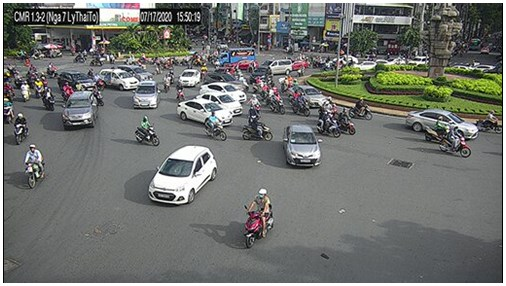xe_hoi: (149, 146, 218, 206), (406, 109, 479, 141), (283, 124, 321, 171), (176, 99, 232, 128), (63, 91, 97, 129), (196, 92, 242, 117), (200, 81, 246, 104), (100, 68, 140, 90), (205, 73, 248, 92), (59, 71, 97, 92), (134, 81, 162, 108), (118, 62, 152, 81), (260, 60, 293, 75), (178, 68, 200, 85), (227, 59, 258, 70), (251, 67, 272, 81), (332, 54, 358, 65), (408, 56, 431, 64), (354, 61, 376, 69)
xe_may: (243, 188, 274, 249), (23, 143, 48, 188), (440, 126, 472, 158), (242, 115, 273, 142), (318, 105, 341, 139), (135, 116, 159, 147), (204, 112, 227, 142), (427, 117, 452, 142), (336, 107, 356, 137), (348, 98, 372, 121), (478, 110, 502, 133), (14, 112, 30, 145), (292, 93, 311, 116), (43, 84, 56, 111), (249, 93, 262, 119), (270, 91, 285, 113), (3, 97, 14, 124), (62, 81, 73, 103), (4, 81, 15, 102), (175, 79, 185, 102), (34, 75, 44, 98), (91, 51, 105, 66), (45, 63, 57, 78), (21, 80, 29, 102), (26, 66, 37, 80), (200, 64, 207, 83), (73, 51, 84, 62), (165, 73, 170, 91)
xe_tai: (217, 48, 256, 65)
